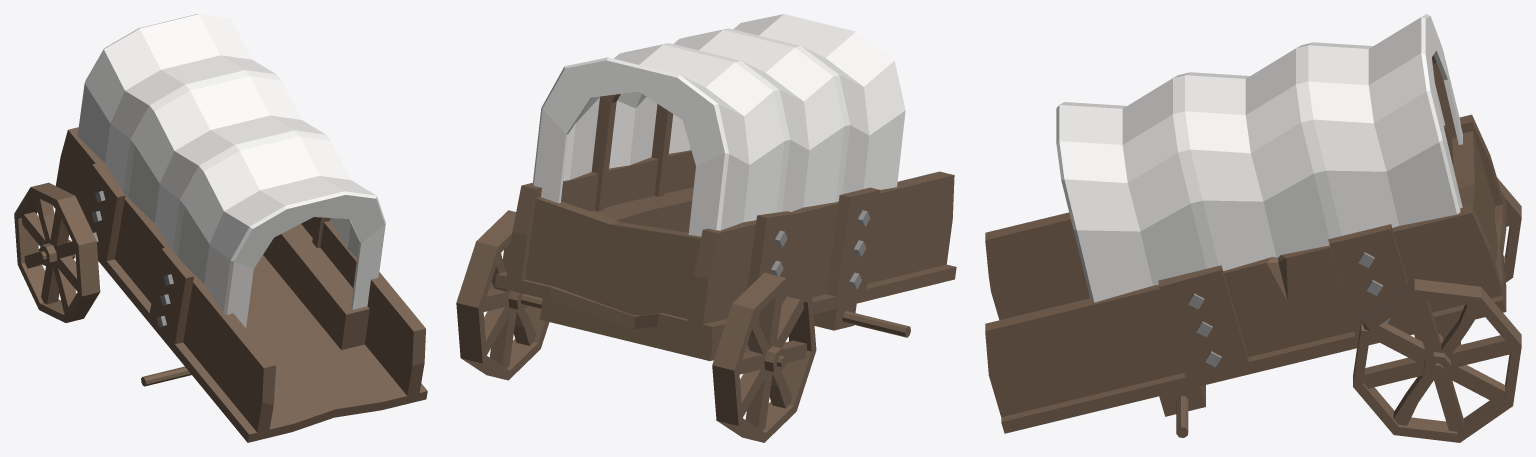
Rendered from Broken_Cart.fbx.
3 views of the same model, side by side, from view 1: azimuth 30°, elevation 25°; view 2: azimuth 150°, elevation 25°; view 3: azimuth 270°, elevation 25° (orthographic). The views are drawn at different scales.
Visible parts, largest first — view 1: Broken_Cart; view 2: Broken_Cart; view 3: Broken_Cart.
Part boxes in pixels (<box>): Broken_Cart: <box>14,14,427,442</box>; Broken_Cart: <box>456,14,956,442</box>; Broken_Cart: <box>985,14,1521,442</box>.
Bounding box in the file's own units: 275 × 420 × 298.
